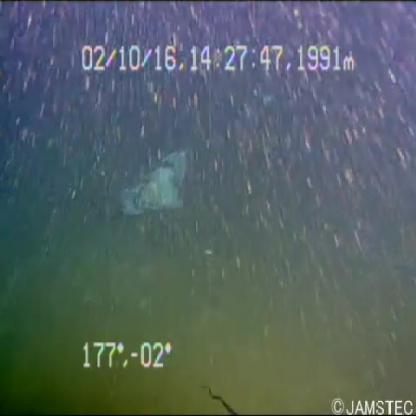Rác: (111, 140, 198, 235), (247, 82, 282, 129)
